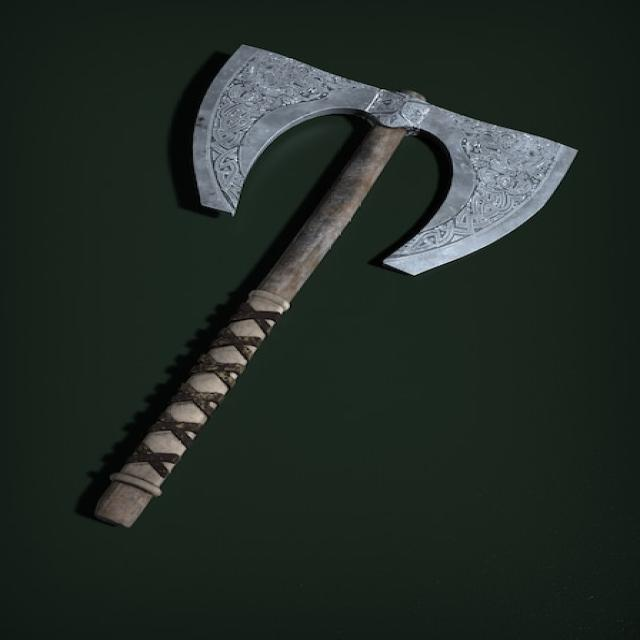Gun: (74, 35, 588, 543)
